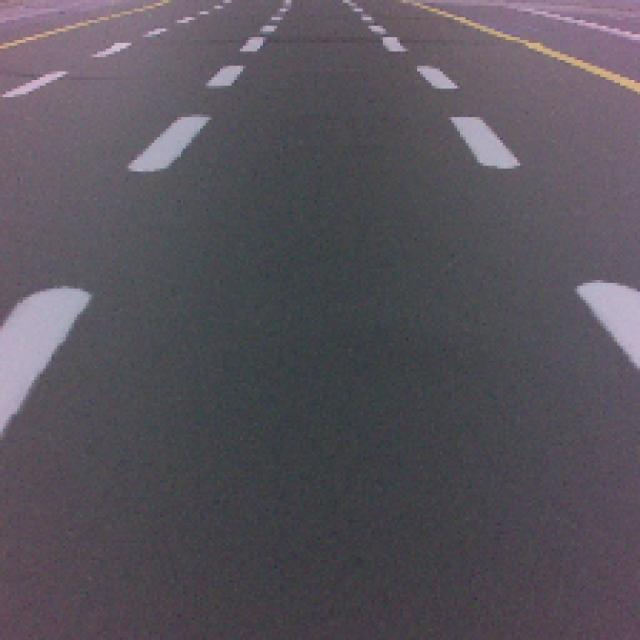Road: (0, 259, 640, 448)
